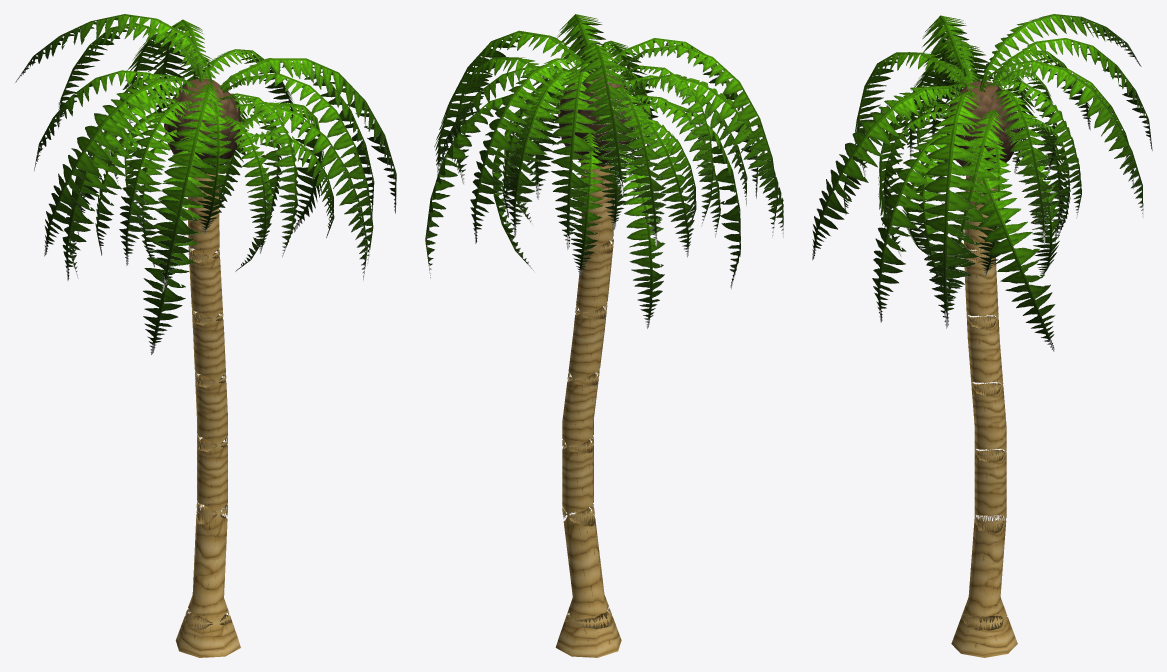
The model's file is PalmTree (2).FBX.
3 views of the same model, side by side, from view 1: azimuth 30°, elevation 25°; view 2: azimuth 150°, elevation 25°; view 3: azimuth 270°, elevation 25° (orthographic). The views are drawn at different scales.
Parts seen in each view (by area): view 1: PalmTree; view 2: PalmTree; view 3: PalmTree.
Part boxes in pixels (x1=…): PalmTree: x1=15, y1=14, x2=396, y2=657; PalmTree: x1=425, y1=14, x2=783, y2=657; PalmTree: x1=812, y1=14, x2=1152, y2=657.
Bounding box in the file's own units: 751 × 1295 × 659.
